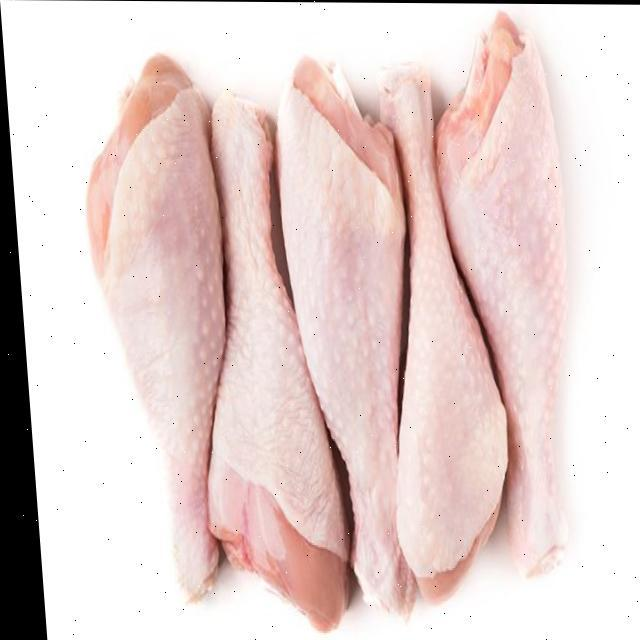leg: (424, 14, 598, 604), (172, 71, 344, 638), (68, 53, 240, 612), (272, 41, 426, 629), (368, 51, 508, 614)
